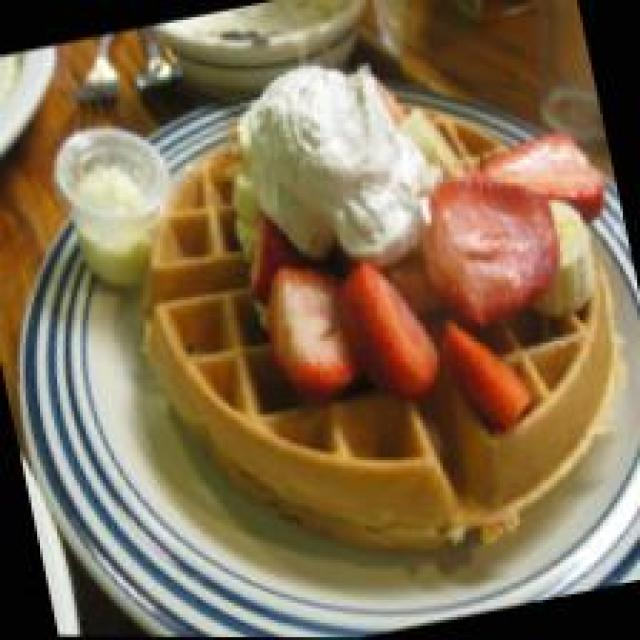Waffles: (97, 20, 640, 617)
